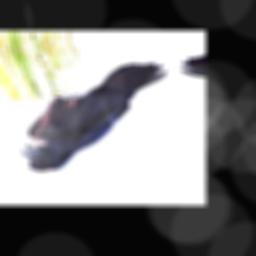Crow: (1, 59, 190, 174)
